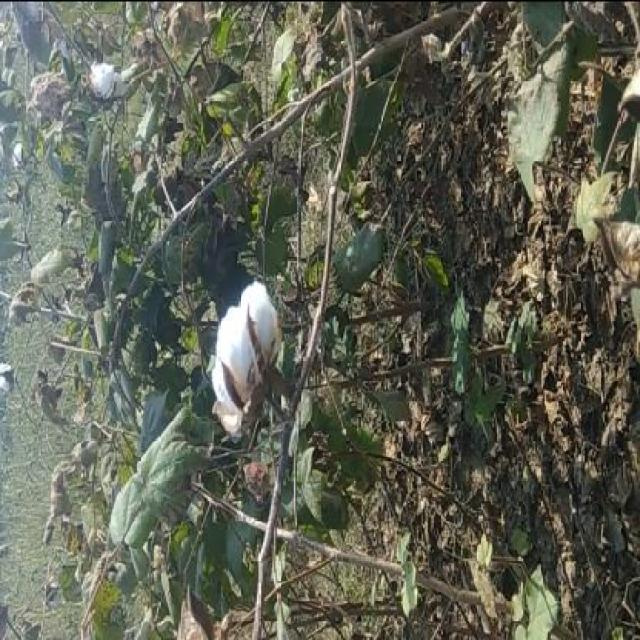cotton_ready: (199, 274, 319, 441)
